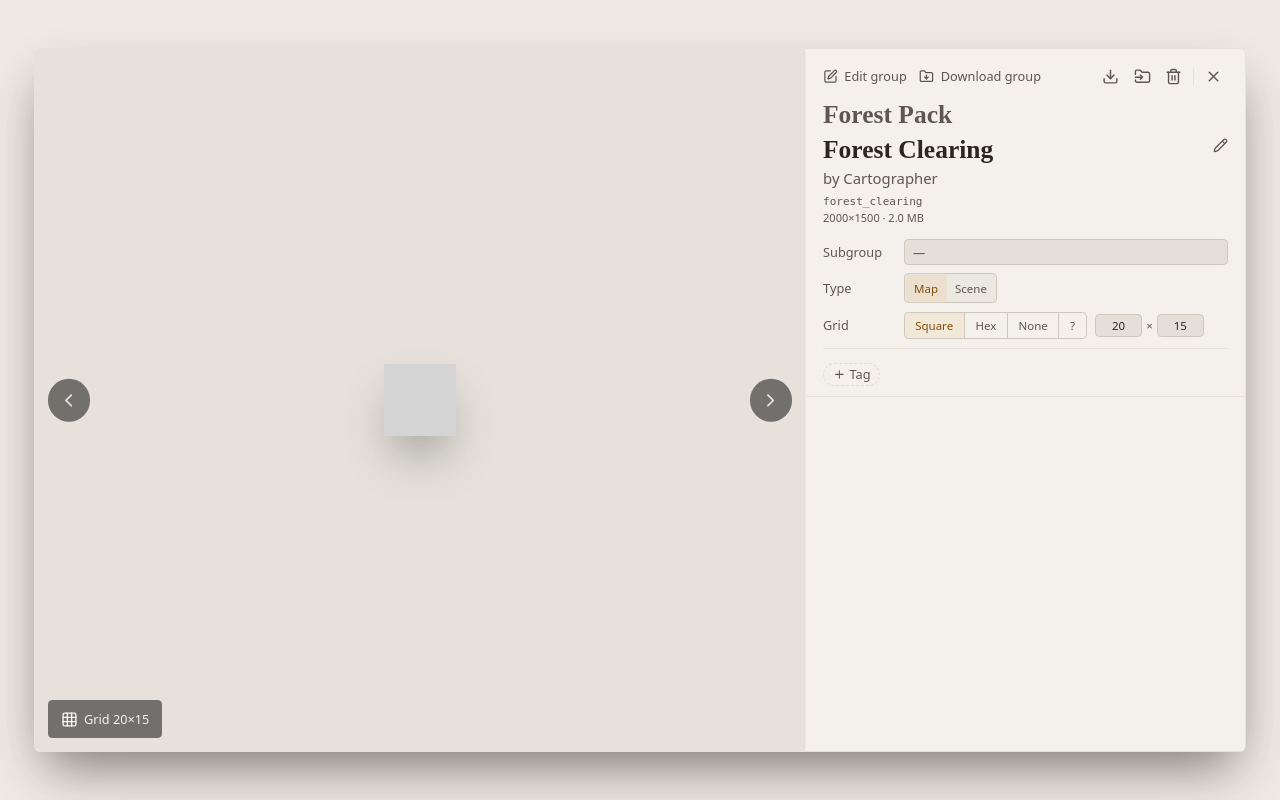
Scenario: ImageViewer › metadata › opens the move dialog from its toolbar button
The width and height of the screenshot is (1280, 800).
Click the button named "Move to another group" at coordinates (1142, 77), box [1127,62,1157,92]
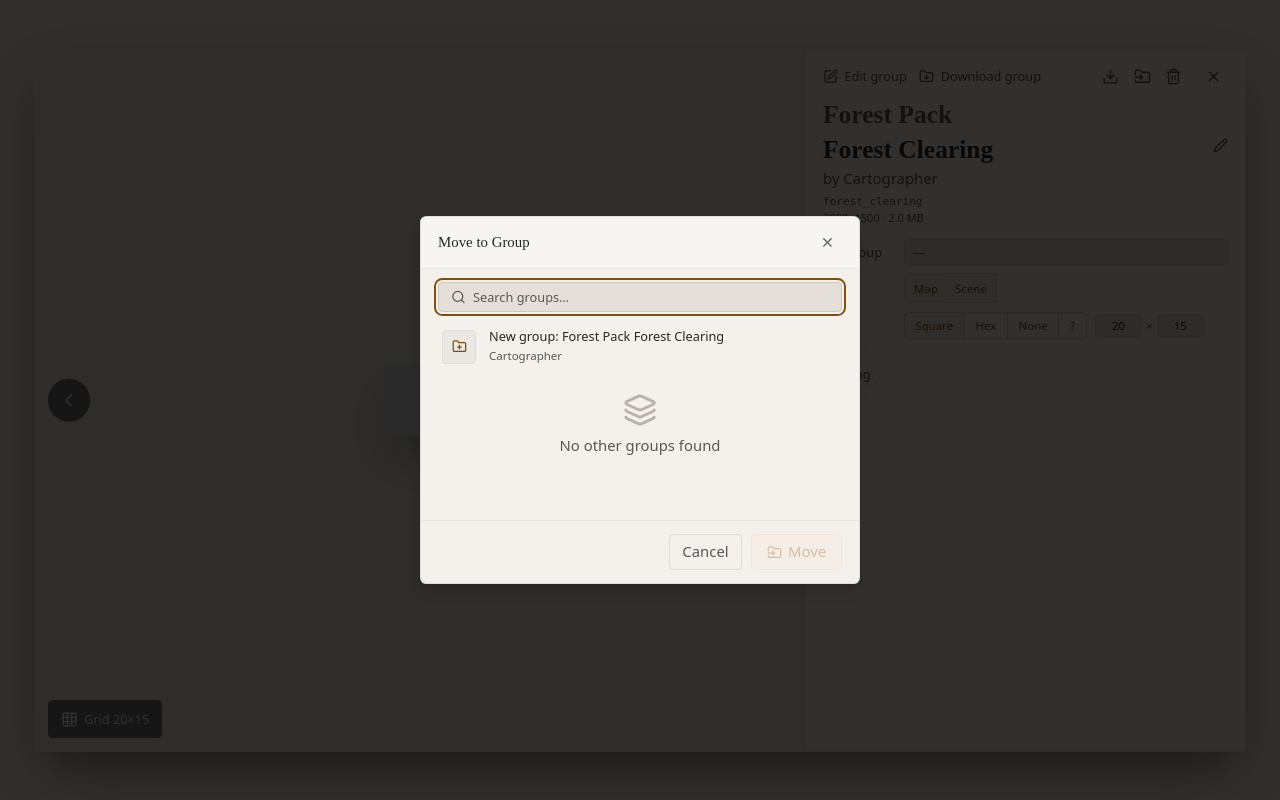
Result: the heading "Move to Group" is shown at [438,235,530,250]
Result: the button "New group: Forest Pack Forest Clearing Cartographer" is shown at [430,320,850,373]
